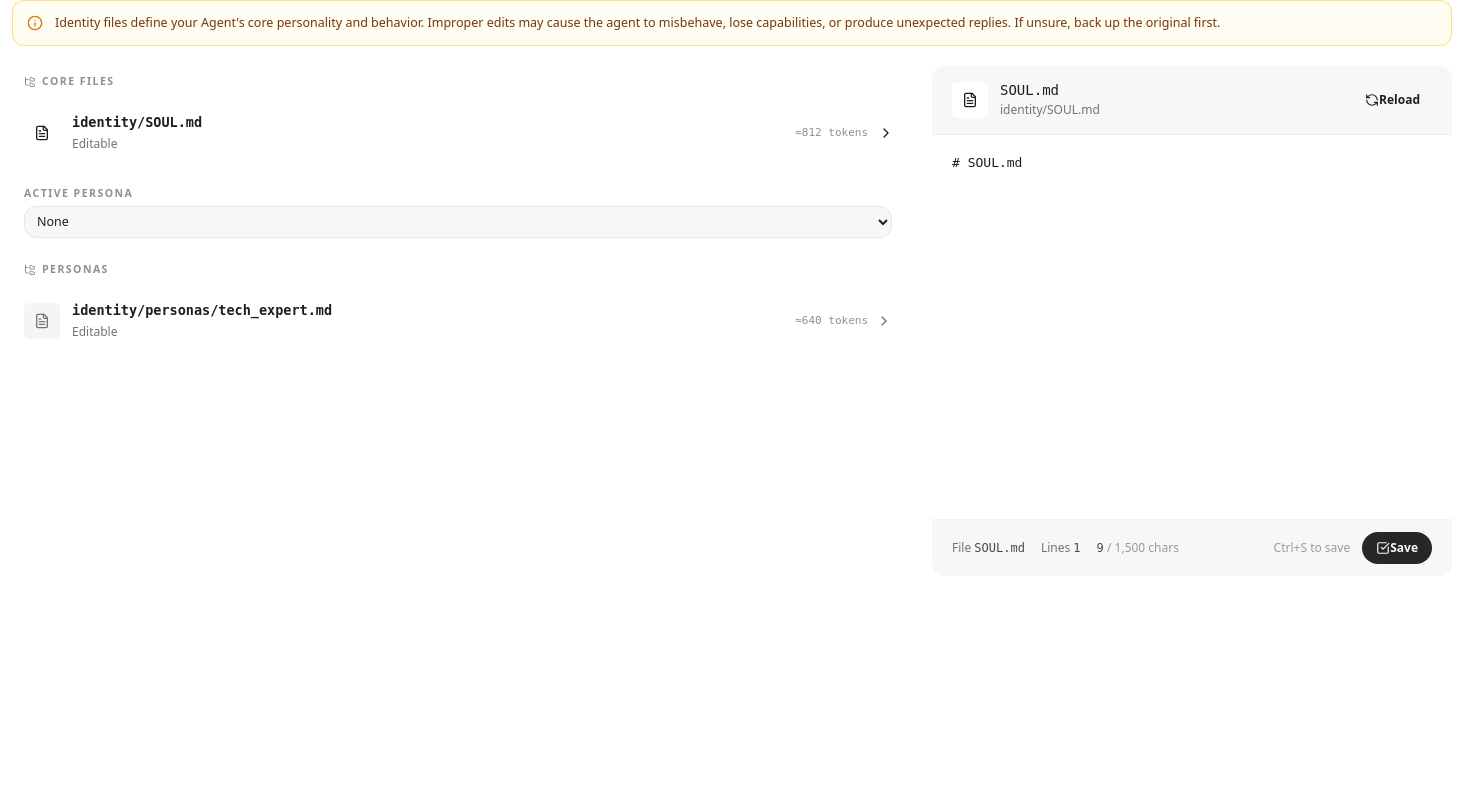
IdentityView active persona picker › rolls the picker back and surfaces the error when the mutation fails
The width and height of the screenshot is (1464, 810).
Select "Strict mentor" in the dropdown labelled "Active persona". click: (458, 222)
box: [24,206,892,238]
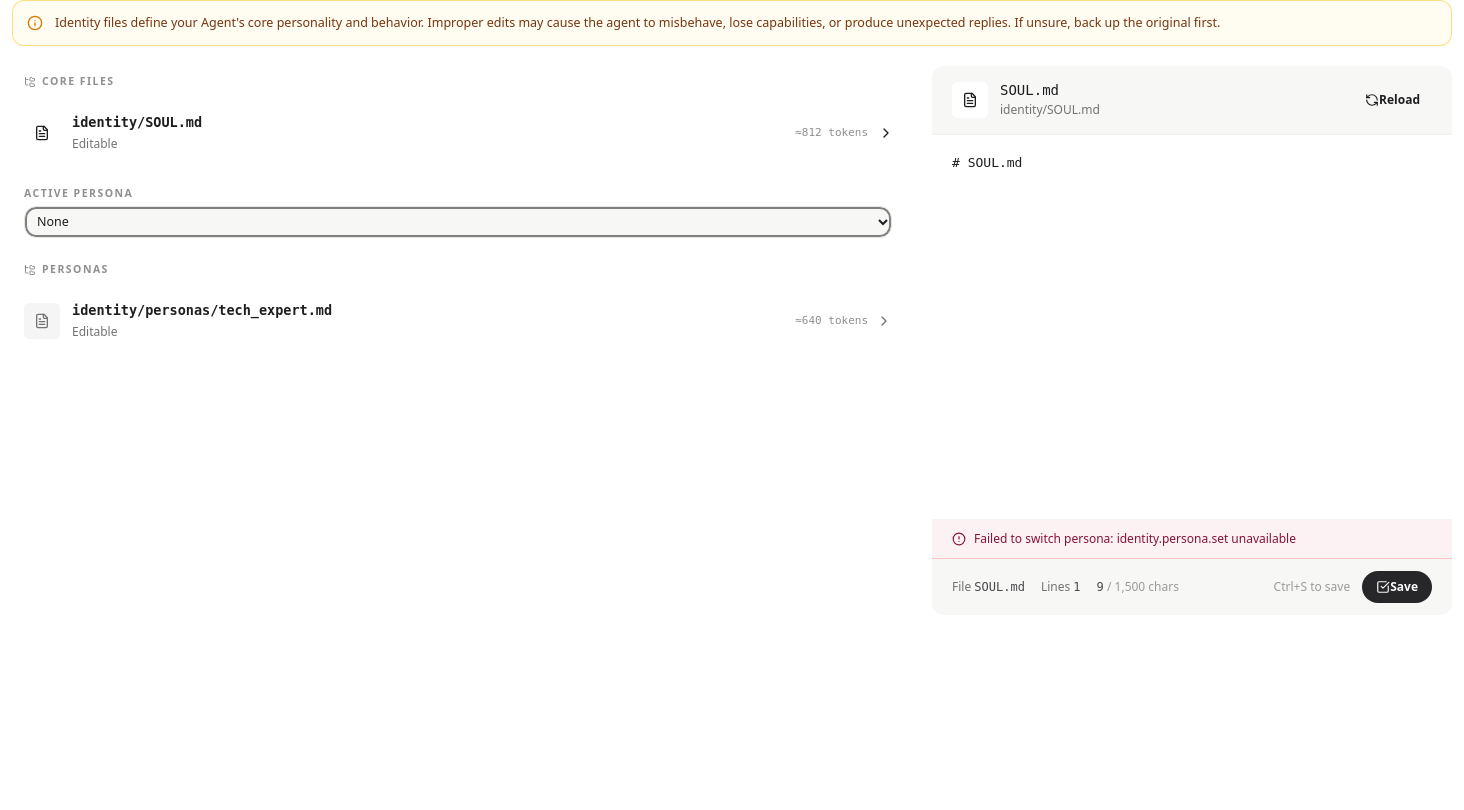
Expected: the text "Failed to switch persona: identity.persona.set unavailable" is shown, [974,530,1296,548]
